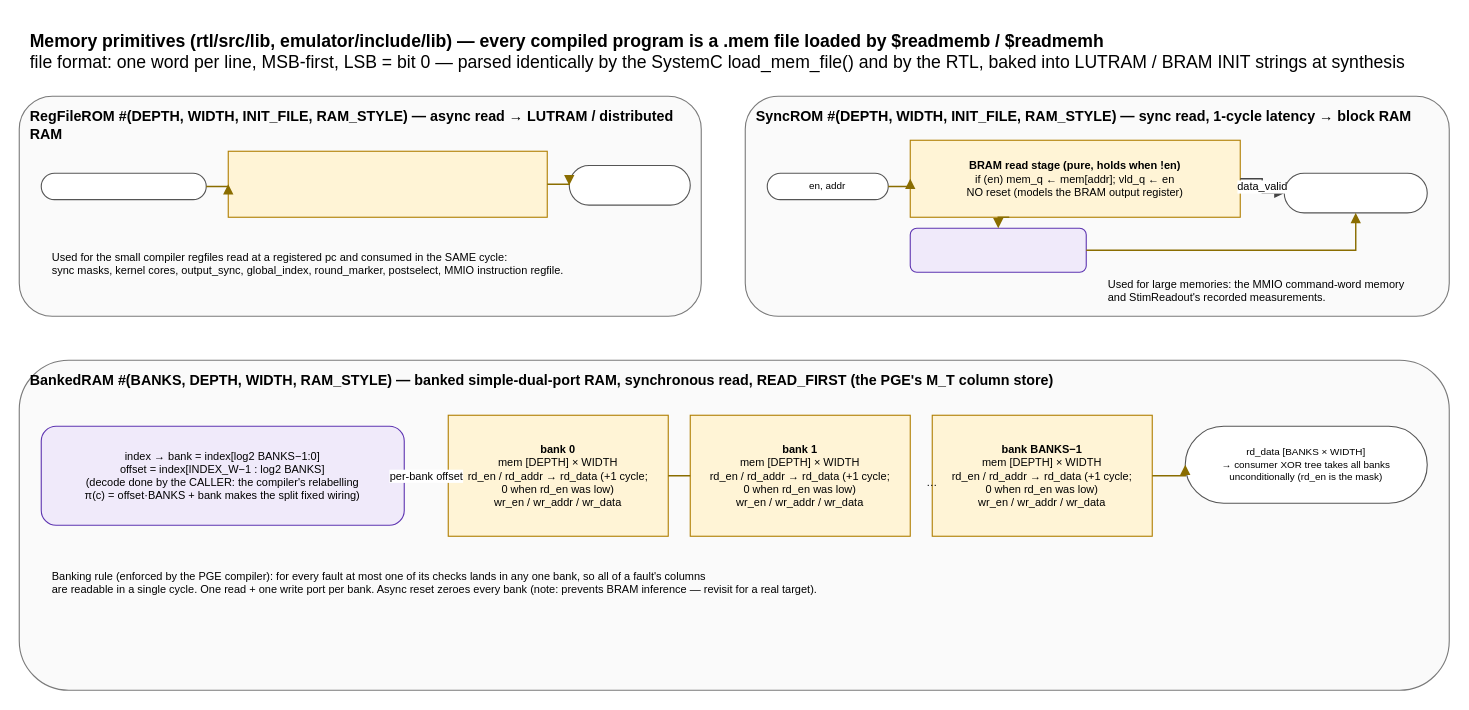
This 1469x710 diagram has some shape labels left out. Each missing label, with the centre of its shape:
"addr [⌈log2 DEPTH⌉]" belongs at [123,186].
"data [WIDTH] (same cycle)" belongs at [629,184].
"data [WIDTH], data_valid (+1 cycle)" belongs at [1355,192].
"fabric mux data = vld_q ? mem_q : 0" belongs at [997,249].
"mem [DEPTH] × WIDTH data = mem[addr] (combinational, no clock, no enable)" belongs at [387,183].
